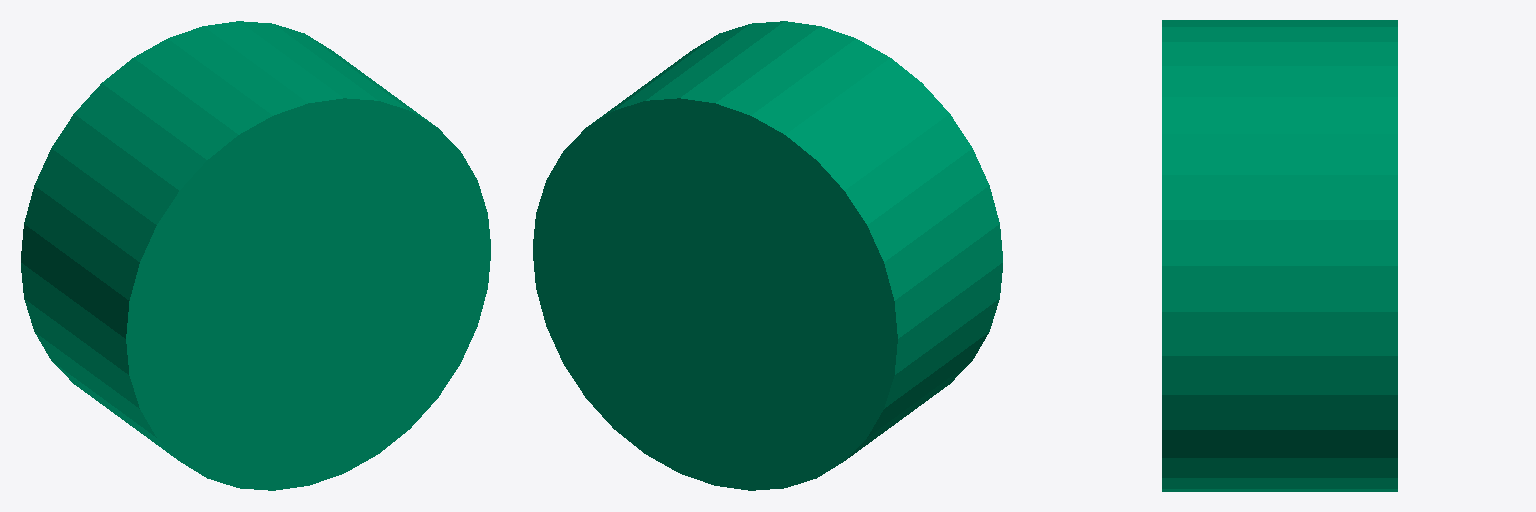
robot.urdf — pendulum_b:
<?xml version="1.0" ?>
<robot name="pendulum_b">
  <link name="world"/>
  <link name="base_link"/>

  <joint name="world_to_base_link" type="fixed">
    <parent link="world"/>
    <child link="base_link"/>
  </joint>
  <joint name="base_link_to_hebi_x9_spool" type="fixed">
    <parent link="base_link"/>
    <child link="hebi_x9_spool"/>
    <origin rpy="-1.5708 0.0 0.0" xyz="0 0 0"/>
  </joint>

  <joint name="GRIPPER/Spool/X5_9" type="revolute">
    <parent link="hebi_x9_spool"/>
    <child link="hebi_x9_spool_output"/>
    <axis xyz="0 0 1.0"/>
    <dynamics damping="0.5" friction="0.0"/>
    <limit effort="20" lower="-1.75" upper="+1.75" velocity="90"/>
    <origin rpy="0 0 0" xyz="0 0 0.03"/>
  </joint>
  <gazebo reference="GRIPPER/Spool/X5_9">
    <implicitSpringDamper>True</implicitSpringDamper>
  </gazebo>

  <link name="hebi_x9_spool_output">
    <inertial>
      <origin xyz="0 0 0" rpy="0 0 0"/>
      <mass value="0.05"/>
      <inertia ixx="0.0000016667" iyy="0.0000016667" izz="0.0000025"  ixy="0"  ixz="0" iyz="0" />
    </inertial>
    <visual>
      <origin xyz="0 0 0" rpy="0 0 0" />
      <geometry>
        <cylinder radius="0.01" length="0.01"/>
      </geometry>
    </visual>
    <collision>
      <origin xyz="0 0 0" rpy="0 0 0"/>
      <geometry>
        <cylinder radius="0.01" length="0.01"/>
      </geometry>
    </collision>
  </link>
  <gazebo reference="hebi_x9_spool_output">
    <selfCollide>False</selfCollide>
    <material>Gazebo/Black</material>
    <kp>100000000</kp>
    <kd>1</kd>
  </gazebo>

  <joint name="GRIPPER/Spool/X5_9/Output" type="revolute">
    <parent link="hebi_x9_spool_output"/>
    <child link="a_2038_02_11Z"/>
    <axis xyz="0 0 1.0"/>
    <dynamics damping="0.5" friction="0.0"/>
    <limit effort="20" lower="-0" upper="+0" velocity="90"/>
    <origin rpy="0 0 0" xyz="0 0 0"/>
  </joint>
  <gazebo reference="GRIPPER/Spool/X5_9/Output">
    <implicitSpringDamper>True</implicitSpringDamper>
  </gazebo>

  <!-- Gazebo force-torque sensor -->
  <gazebo reference="GRIPPER/Spool/X5_9/Output">
    <sensor name="gripper_force_torque" type="force_torque">
      <always_on>true</always_on>
      <update_rate>2000.0</update_rate>
      <visualize>true</visualize>
      <force_torque>
        <frame>sensor</frame>
        <measure_direction>child_to_parent</measure_direction>
      </force_torque>
    </sensor>
  </gazebo>

  <gazebo reference="GRIPPER/Spool/X5_9/Output">
    <sensor name="gripper_force_torque_parent" type="force_torque">
      <always_on>true</always_on>
      <update_rate>2000.0</update_rate>
      <visualize>true</visualize>
      <force_torque>
        <frame>parent_link</frame>
        <measure_direction>child_to_parent</measure_direction>
      </force_torque>
    </sensor>
  </gazebo>

  <gazebo reference="GRIPPER/Spool/X5_9/Output">
    <sensor name="gripper_force_torque_child" type="force_torque">
      <always_on>true</always_on>
      <update_rate>2000.0</update_rate>
      <visualize>true</visualize>
      <force_torque>
        <frame>child_link</frame>
        <measure_direction>child_to_parent</measure_direction>
      </force_torque>
    </sensor>
  </gazebo>

  <link name="hebi_x9_spool">
    <visual>
      <origin rpy="0 0 0" xyz="0 0 0.015"/>
      <geometry>
        <mesh filename="package://hebi_6_dof_arm_generated_urdf/meshes/hebi_x5_9_15z_prt.stl" scale="0.001 0.001 0.001"/>
      </geometry>
    </visual>
    <collision>
      <origin rpy="0 0 0" xyz="0 0 0.015"/>
      <geometry>
        <mesh filename="package://force_feedback_tests/meshes/hebi_x5_9_15z_prt.stl" scale="0.001 0.001 0.001"/>
      </geometry>
    </collision>
    <inertial>
      <origin rpy="0 0 0" xyz="-0.0142019322139 -0.00151173442654 0.0150064707722"/>
      <mass value="0.3601223934133934"/>
      <inertia ixx="0.000149654657264" ixy="-2.029262623e-05" ixz="1.36324075072e-08" iyy="0.000259599603648" iyz="1.37817063293e-07" izz="0.000355190384437"/>
    </inertial>
  </link>
  <gazebo reference="hebi_x9_spool">
    <selfCollide>True</selfCollide>
    <material>Gazebo/Red</material>
    <mu1>0.1</mu1>
    <mu2>0.1</mu2>
    <kp>10000000</kp>
    <kd>1</kd>
    <minDepth>0.001</minDepth>
    <maxVel>100</maxVel>
    <sensor name="GRIPPER/Spool/imu_sensor" type="imu">
      <always_on>true</always_on>
      <update_rate>100</update_rate>
      <visualize>true</visualize>
      <plugin filename="libgazebo_ros_imu_sensor.so" name="imu_plugin">
        <topicName>/hebiros_gazebo_plugin/imu/GRIPPER/Spool</topicName>
        <bodyName>GRIPPER/Spool/imu_link</bodyName>
        <updateRateHZ>10.0</updateRateHZ>
        <gaussianNoise>0.0</gaussianNoise>
        <xyzOffset>0.025 0 0.003</xyzOffset>
        <rpyOffset>0 0 0</rpyOffset>
        <frameName>GRIPPER/Spool/imu_link</frameName>
      </plugin>
      <pose>0 0 0 0 0 0</pose>
    </sensor>
  </gazebo>

  <link name="a_2038_02_11Z">
    <visual>
      <origin rpy="0 0 0" xyz="0 0 0"/>
      <geometry>
        <mesh filename="package://hebi_6_dof_arm_generated_urdf/meshes/a_2038_02_11z_prt.stl" scale="0.001 0.001 0.001"/>
      </geometry>
    </visual>
    <collision>
      <origin rpy="0 0 0" xyz="0 0 0"/>
      <geometry>
        <mesh filename="package://hebi_6_dof_arm_generated_urdf/meshes/a_2038_02_11z_prt.stl" scale="0.001 0.001 0.001"/>
      </geometry>
    </collision>
    <inertial>
      <origin rpy="0 0 0" xyz="0 0 0"/>
      <mass value="0.059108249978877175"/>
      <inertia ixx="2.3632587043e-05" ixy="0.0" ixz="-3.93131579939e-06" iyy="2.03298829586e-05" iyz="0.0" izz="2.72912531732e-05"/>
    </inertial>
  </link>
  <gazebo reference="a_2038_02_11Z">
    <selfCollide>False</selfCollide>
    <material>Gazebo/Grey</material>
    <mu1>0.1</mu1>
    <mu2>0.1</mu2>
    <kp>10000000</kp>
    <kd>1</kd>
    <minDepth>0.0005</minDepth>
    <maxVel>100</maxVel>
  </gazebo>

  <joint name="a_2038_02_11Z_to_tubepar_3Z" type="fixed">
    <parent link="a_2038_02_11Z"/>
    <child link="tubepar_3Z"/>
    <origin rpy="1.57079632679 -1.57079632679 0.0" xyz="0.0135 0 0.02"/>
  </joint>

  <link name="tubepar_3Z">
    <visual>
      <origin rpy="0 0 0" xyz="-1.04532313799e-18 -0.3 -3.11352413402e-18"/>
      <geometry>
        <mesh filename="package://hebi_6_dof_arm_generated_urdf/meshes/tubepar_3z_prt.stl" scale="0.001 0.001 0.001"/>
      </geometry>
    </visual>
    <collision>
      <origin rpy="0 0 0" xyz="-1.04532313799e-18 -0.3 -3.11352413402e-18"/>
      <geometry>
        <mesh filename="package://hebi_6_dof_arm_generated_urdf/meshes/tubepar_3z_prt.stl" scale="0.001 0.001 0.001"/>
      </geometry>
    </collision>
    <inertial>
      <origin rpy="0 0 0" xyz="-1.04532313799e-18 -0.15 -3.11352413402e-18"/>
      <mass value="0.12133427279164029"/>
      <inertia ixx="0.000923727684155" ixy="0.0" ixz="0.0" iyy="2.74413054377e-05" iyz="0.0" izz="0.000923727713157"/>
    </inertial>
  </link>
  <gazebo reference="tubepar_3Z">
    <selfCollide>True</selfCollide>
    <material>Gazebo/Grey</material>
    <mu1>0.05</mu1>
    <mu2>0.05</mu2>
    <kp>10000000</kp>
    <kd>1</kd>
    <minDepth>0.0005</minDepth>
    <maxVel>100</maxVel>
  </gazebo>

  <joint name="tubepar_3Z_to_a_2039_02_7Z" type="fixed">
    <parent link="tubepar_3Z"/>
    <child link="a_2039_02_7Z"/>
    <origin rpy="1.57079632679 0 -1.57079632679" xyz="0 -0.3 0"/>
  </joint>

  <link name="a_2039_02_7Z">
    <visual>
      <origin rpy="0 0 0" xyz="0.014 3.4655505455e-16 0.02"/>
      <geometry>
        <mesh filename="package://hebi_6_dof_arm_generated_urdf/meshes/a_2039_02_7z_prt.stl" scale="0.001 0.001 0.001"/>
      </geometry>
    </visual>
    <collision>
      <origin rpy="0 0 0" xyz="0.014 3.4655505455e-16 0.02"/>
      <geometry>
        <mesh filename="package://hebi_6_dof_arm_generated_urdf/meshes/a_2039_02_7z_prt.stl" scale="0.001 0.001 0.001"/>
      </geometry>
    </collision>
    <inertial>
      <origin rpy="0 0 0" xyz="0.00256411047128 3.4655505455e-16 0.00833404763152"/>
      <mass value="0.08075605008850124"/>
      <inertia ixx="3.54766366127e-05" ixy="0.0" ixz="-8.29679742245e-06" iyy="3.7139980371e-05" iyz="0.0" izz="5.23238184568e-05"/>
    </inertial>
  </link>
  <gazebo reference="a_2039_02_7Z">
    <selfCollide>True</selfCollide>
    <material>Gazebo/Black</material>
    <mu1>0.1</mu1>
    <mu2>0.1</mu2>
    <kp>10000000</kp>
    <kd>1</kd>
    <minDepth>0.0005</minDepth>
    <maxVel>100</maxVel>
  </gazebo>

  <joint name="a_2039_02_7Z_to_hebi_x9_weight" type="fixed">
    <parent link="a_2039_02_7Z"/>
    <child link="hebi_x9_weight"/>
    <origin rpy="0 0 0" xyz="0.014 0 0.02"/>
  </joint>

  <link name="hebi_x9_weight">
    <visual>
      <origin rpy="0 0 0" xyz="0 0 0.015"/>
      <geometry>
        <mesh filename="package://hebi_6_dof_arm_generated_urdf/meshes/hebi_x5_9_15z_prt.stl" scale="0.001 0.001 0.001"/>
      </geometry>
    </visual>
    <collision>
      <origin rpy="0 0 0" xyz="0 0 0.015"/>
      <geometry>
        <mesh filename="package://force_feedback_tests/meshes/hebi_x5_9_15z_prt.stl" scale="0.001 0.001 0.001"/>
      </geometry>
    </collision>
    <inertial>
      <origin rpy="0 0 0" xyz="-0.0142019322139 -0.00151173442654 0.0150064707722"/>
      <mass value="0.3601223934133934"/>
      <inertia ixx="0.000149654657264" ixy="-2.029262623e-05" ixz="1.36324075072e-08" iyy="0.000259599603648" iyz="1.37817063293e-07" izz="0.000355190384437"/>
    </inertial>
  </link>
  <gazebo reference="hebi_x9_weight">
    <selfCollide>True</selfCollide>
    <material>Gazebo/Red</material>
    <mu1>0.1</mu1>
    <mu2>0.1</mu2>
    <kp>10000000</kp>
    <kd>1</kd>
    <minDepth>0.001</minDepth>
    <maxVel>100</maxVel>
  </gazebo>

  <!--HEBI-ROS Gazebo Plugin-->
  <gazebo>
    <plugin filename="libhebiros_gazebo_plugin.so" name="hebiros_gazebo_plugin"/>
  </gazebo>
</robot>

--- What the picture shows (computed from the rendered views, not written in the file) ---
Views: 3 orthographic renders of the robot side by side, from view 1: azimuth 30°, elevation 25°; view 2: azimuth 150°, elevation 25°; view 3: azimuth 270°, elevation 25°.
Robot: pendulum_b — 8 links, 7 joints (2 revolute, 5 fixed); root link world; default pose: all joints at 0.
Links seen in each view (by area): view 1: hebi_x9_spool_output; view 2: hebi_x9_spool_output; view 3: hebi_x9_spool_output.
Boxes of the visible links, x1,y1,x2,y2 form: hebi_x9_spool_output: (21,21,490,490); hebi_x9_spool_output: (533,21,1002,490); hebi_x9_spool_output: (1162,20,1397,491).
Bounding box of the posed robot: 0.02 × 0.01 × 0.02 m (x, y, z).
0 mesh visuals loaded from 4 distinct referenced files (none loaded); not drawn: 3 (reference not matched to a file when rendering), 2 (file found but could not be loaded).